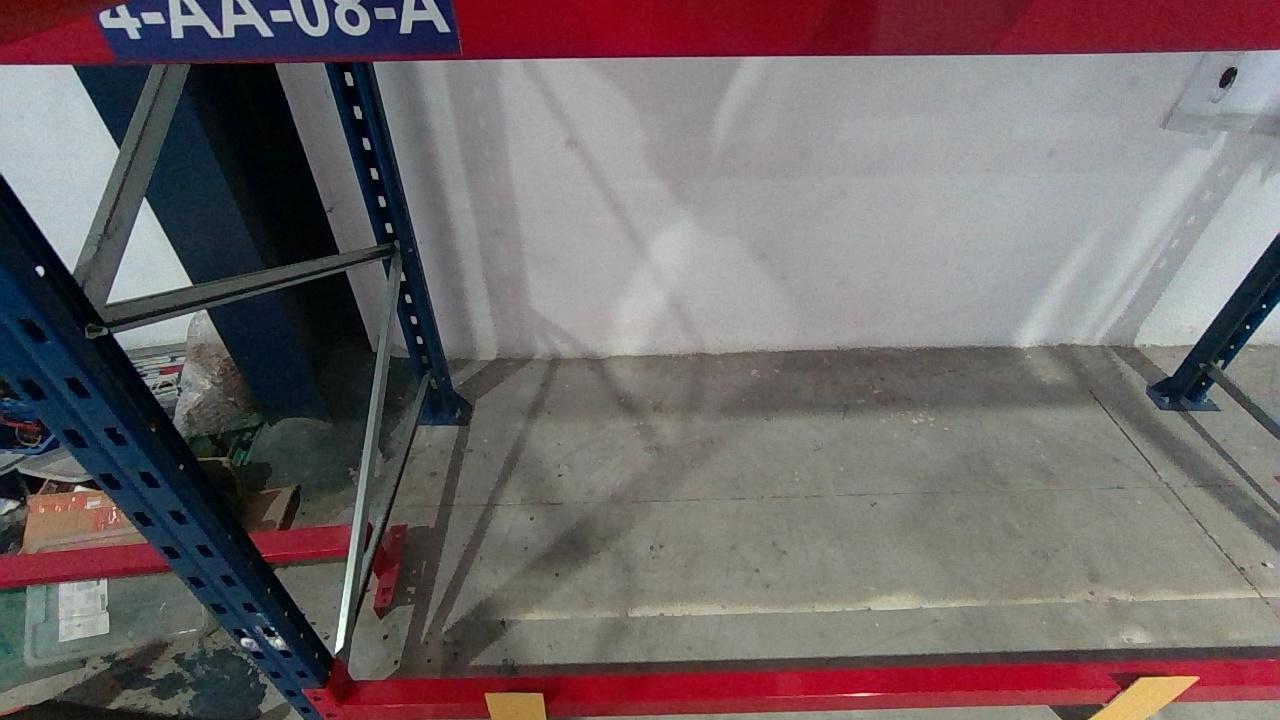h_rack: (20, 0, 1280, 63), (333, 657, 1275, 719)
orange_strip: (1090, 675, 1200, 719), (482, 692, 545, 719)
